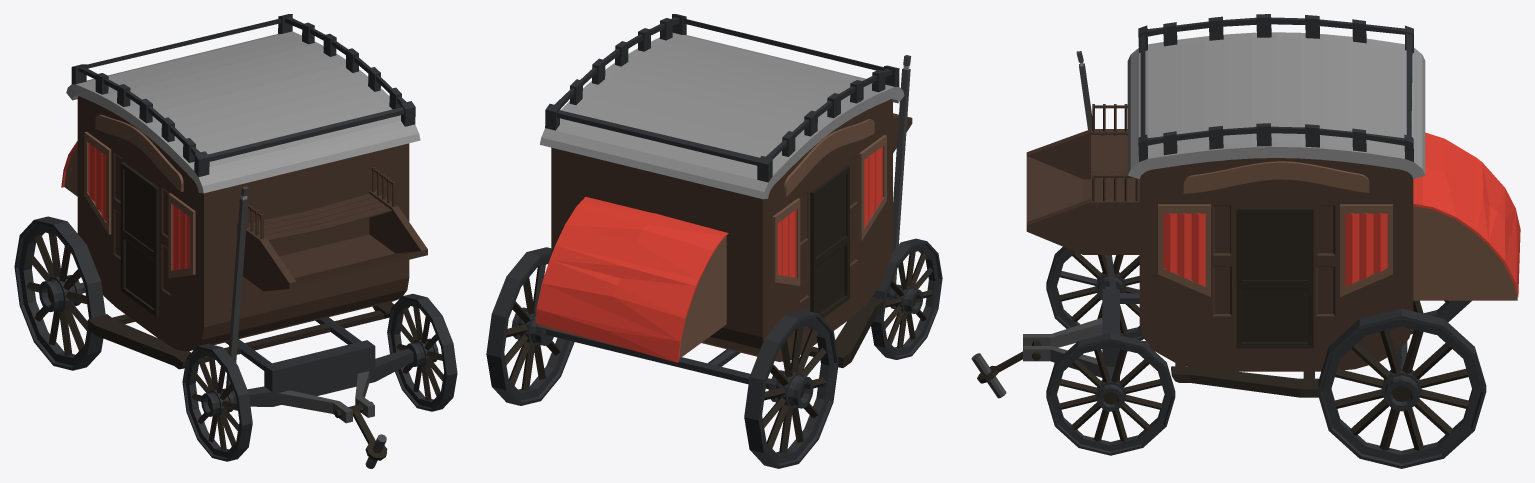
The model's file is Chariot.fbx.
3 views of the same model, side by side, from view 1: azimuth 30°, elevation 25°; view 2: azimuth 150°, elevation 25°; view 3: azimuth 270°, elevation 25° (orthographic). The views are drawn at different scales.
Parts seen in each view (by area): view 1: Chariot_Merged; view 2: Chariot_Merged; view 3: Chariot_Merged.
Boxes of the visible parts, x1=… form: Chariot_Merged: x1=14, y1=14, x2=457, y2=468; Chariot_Merged: x1=486, y1=14, x2=942, y2=468; Chariot_Merged: x1=971, y1=14, x2=1520, y2=468.
Size of the model in its own units: 270 by 283 by 428.
